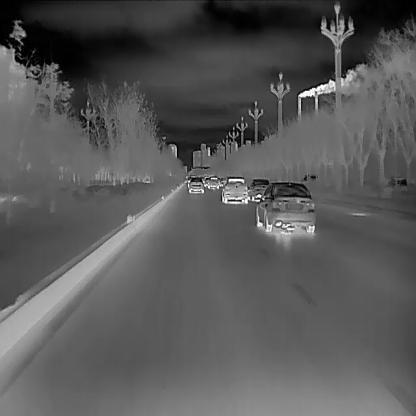car: (255, 181, 315, 233), (219, 176, 248, 203), (246, 179, 272, 201), (188, 179, 204, 193), (207, 177, 218, 189)
